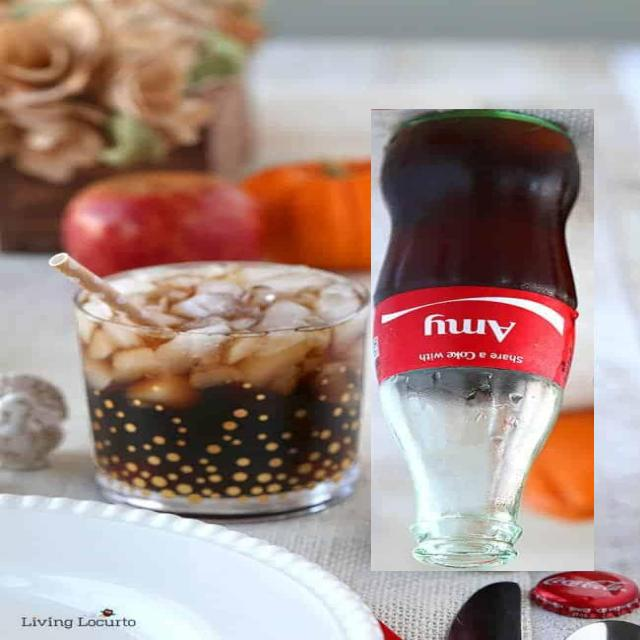coca-cola: (371, 109, 594, 571)
